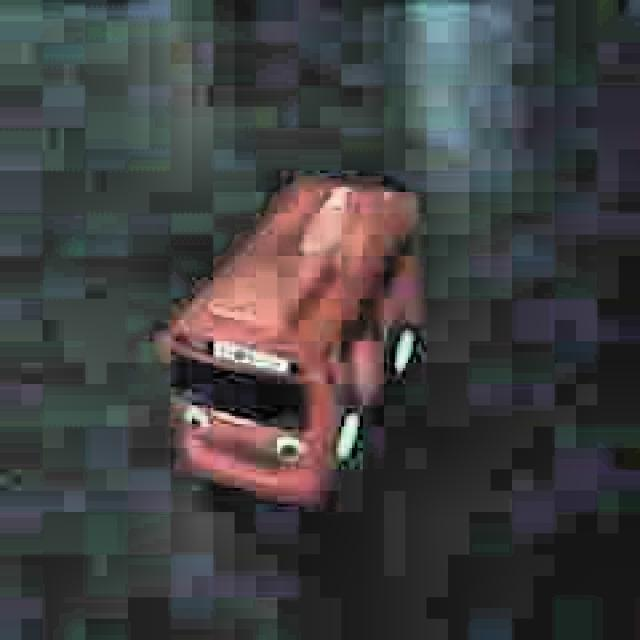bus: (150, 171, 434, 514)
